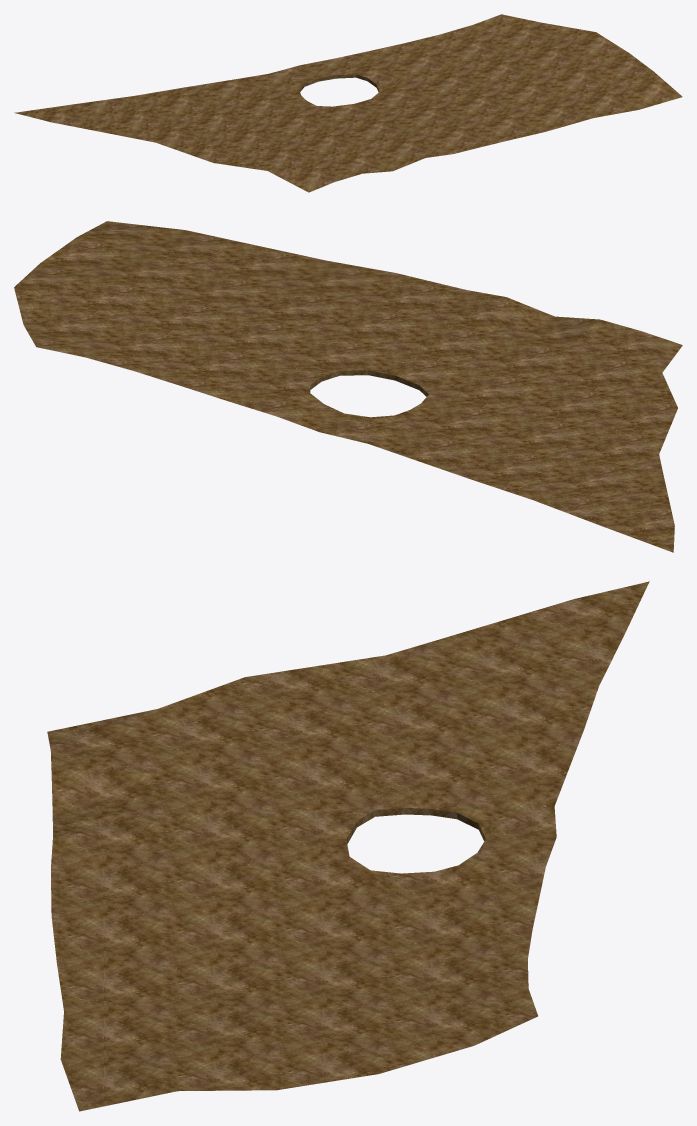
File: 0_Floor_3_Alpha.FBX
3 views of the same model, one above another, from view 1: azimuth 30°, elevation 25°; view 2: azimuth 150°, elevation 25°; view 3: azimuth 270°, elevation 25° (orthographic). The views are drawn at different scales.
Visible parts, largest first — view 1: 0_Floor_3; view 2: 0_Floor_3; view 3: 0_Floor_3.
Part boxes in pixels (x1=…): 0_Floor_3: x1=14, y1=14, x2=682, y2=192; 0_Floor_3: x1=14, y1=221, x2=682, y2=552; 0_Floor_3: x1=47, y1=581, x2=649, y2=1111.
Bounding box in the file's own units: 4472 × 122 × 2216.
